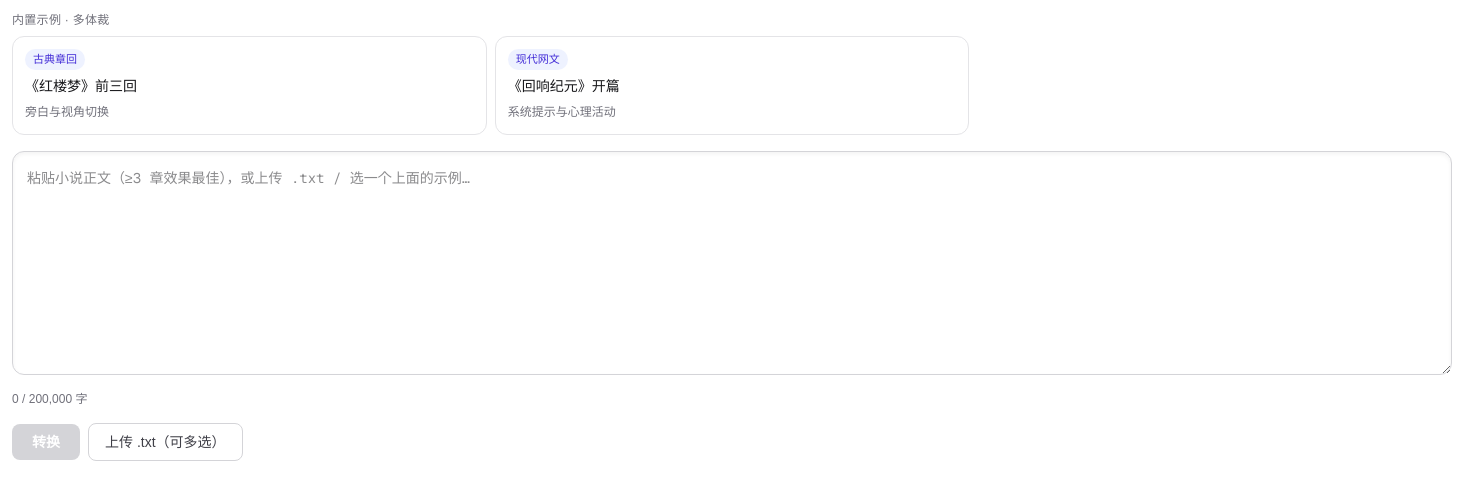
InputPanel › loads a sample by id into the textarea when its card is clicked
Click the text "《回响纪元》开篇".
click(564, 86)  # box [508,76,620,96]
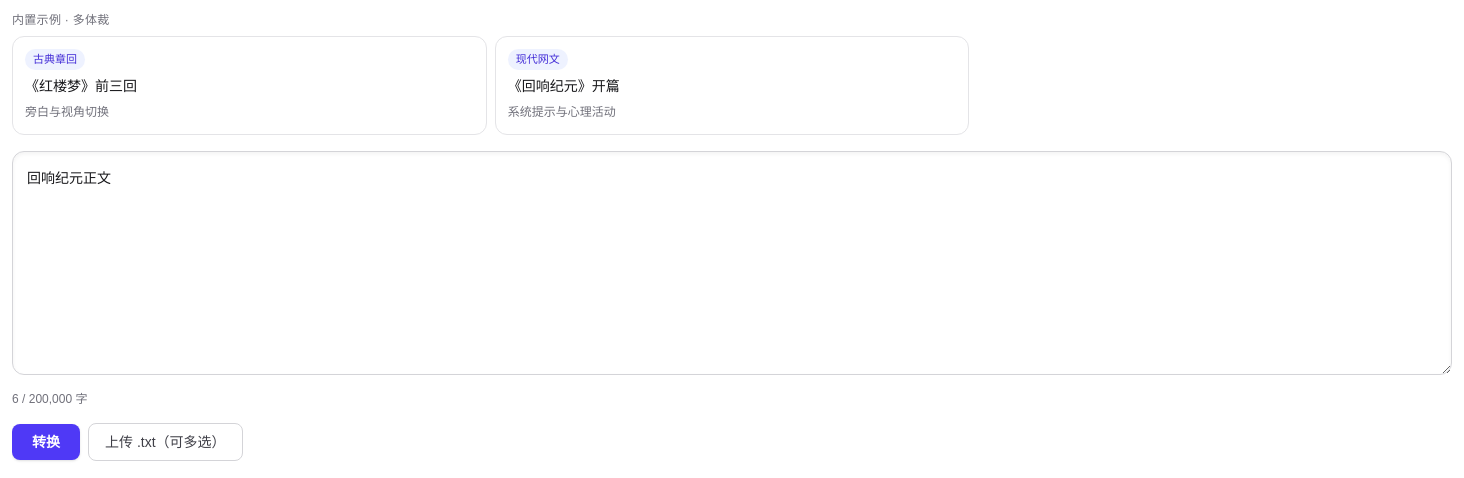
Check: the text box holds "回响纪元正文", box [12,150,1452,374]
